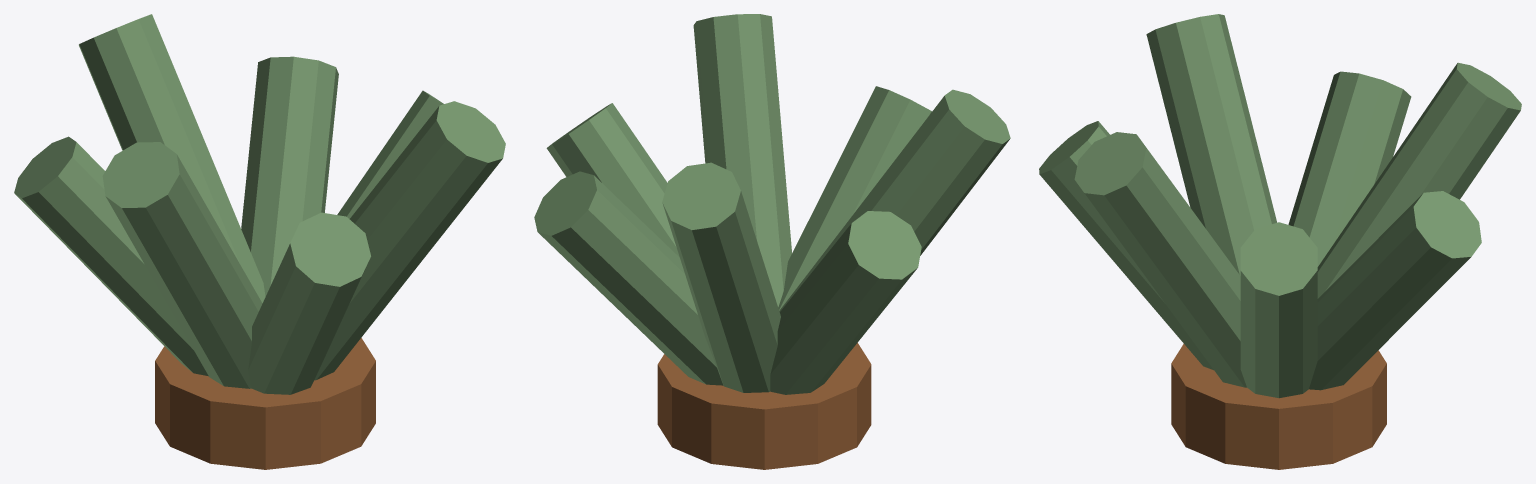
The model's file is leaf_plant.glb.
The picture shows the model from 3 angles, left to right: view 1: azimuth 30°, elevation 25°; view 2: azimuth 150°, elevation 25°; view 3: azimuth 270°, elevation 25°; orthographic projection. The views are drawn at different scales.
Parts seen in each view (by area): view 1: leaf_plant; view 2: leaf_plant; view 3: leaf_plant.
Boxes of the visible parts, x1,y1,x2,y2 form: leaf_plant: [14, 14, 505, 469]; leaf_plant: [534, 14, 1010, 469]; leaf_plant: [1039, 14, 1521, 469].
Bounding box in the file's own units: 0.7051 × 0.5538 × 0.7166.
